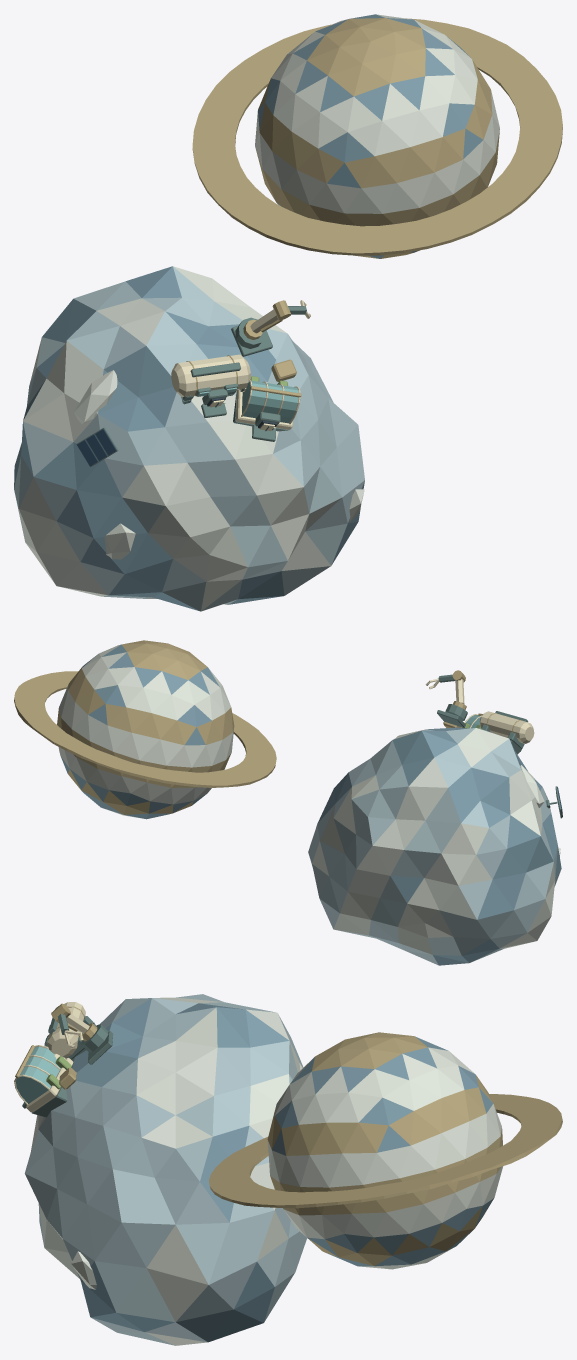
The model's file is outer.glb.
3 views of the same model, one above another, from view 1: azimuth 30°, elevation 25°; view 2: azimuth 150°, elevation 25°; view 3: azimuth 270°, elevation 25° (orthographic). The views are drawn at different scales.
Visible parts, largest first — view 1: S10_outer • modeled surfaces; view 2: S10_outer • modeled surfaces; view 3: S10_outer • modeled surfaces.
Part boxes in pixels (box(x1,y1,x2,y2)): S10_outer • modeled surfaces: box(14, 14, 562, 611); S10_outer • modeled surfaces: box(14, 640, 562, 965); S10_outer • modeled surfaces: box(14, 994, 562, 1345).
Bounding box in the file's own units: 2.48 × 1.63 × 1.99.
